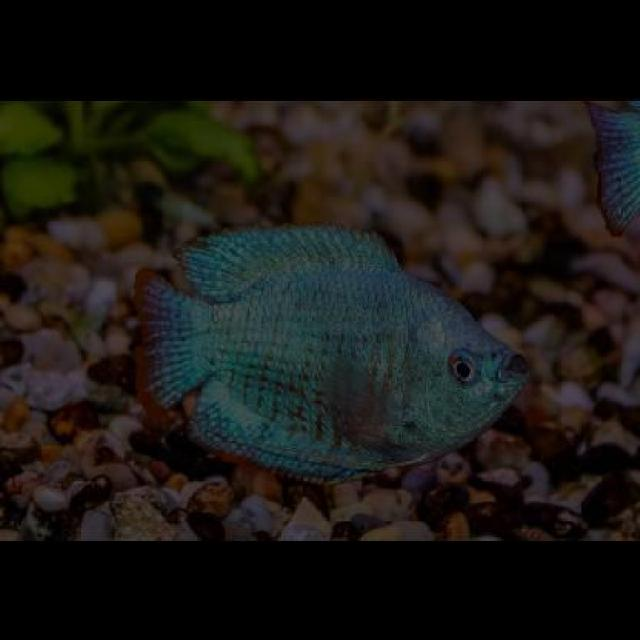Gourami: (127, 218, 535, 480)
